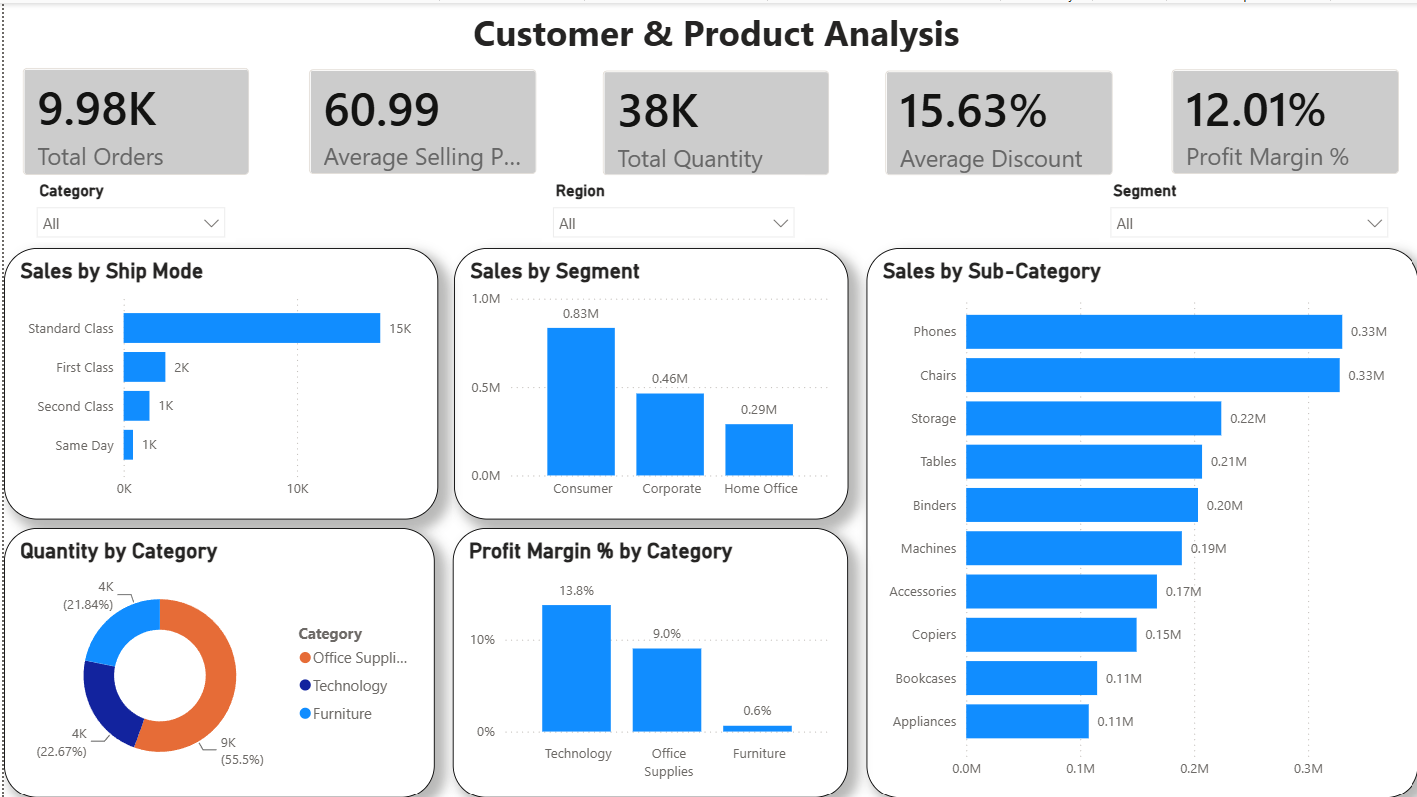

The dashboard page shown, as its layout file describes it:
{"tool":"powerbi","page":{"name":"Page 3","canvas":[1280,720],"ordinal":2},"visuals":[{"type":"textbox","box":[9.6,0,1270.7,56.3],"z":0},{"type":"cardVisual","fields":{"Data":["SampleSuperstore_Feature_Engineered.Total Orders"]},"box":[0,41.8,239.1,131.1],"z":1},{"type":"cardVisual","fields":{"Data":["SampleSuperstore_Feature_Engineered.Average Selling Price"]},"box":[258.8,43.1,240.7,129.4],"z":2},{"type":"cardVisual","fields":{"Data":["SampleSuperstore_Feature_Engineered.Total Quantity"]},"box":[524.6,44.5,239.4,129.4],"z":3},{"type":"cardVisual","fields":{"Data":["SampleSuperstore_Feature_Engineered.Average Discount"]},"box":[780.7,44.5,240.7,129.4],"z":4},{"type":"cardVisual","fields":{"Data":["SampleSuperstore_Feature_Engineered.Profit Margin %"]},"box":[1039.5,43.1,240.7,129.4],"z":5},{"type":"clusteredColumnChart","title":"Sales by Segment","fields":{"Category":["SampleSuperstore_Feature_Engineered.Segment"],"Y":["SampleSuperstore_Feature_Engineered.Total Sales"]},"box":[406.7,221.4,357,245.5],"z":6},{"type":"clusteredBarChart","title":"Sales by Ship Mode","fields":{"Category":["SampleSuperstore_Feature_Engineered.Ship Mode"],"Y":["SampleSuperstore_Feature_Engineered.Total Sales"]},"box":[0,221.4,393.1,245.5],"z":7},{"type":"clusteredBarChart","title":"Sales by Sub-Category","fields":{"Category":["SampleSuperstore_Feature_Engineered.Sub-Category"],"Y":["SampleSuperstore_Feature_Engineered.Total Sales"]},"box":[780.2,221.4,500.1,498.6],"z":9},{"type":"donutChart","title":"Quantity by Category","fields":{"Category":["SampleSuperstore_Feature_Engineered.Category"],"Y":["SampleSuperstore_Feature_Engineered.Total Quantity"]},"box":[0,474.5,389.7,244.9],"z":10},{"type":"slicer","fields":{"Values":["SampleSuperstore_Feature_Engineered.Category"]},"box":[19.2,156.4,190.7,60.4],"z":11},{"type":"slicer","fields":{"Values":["SampleSuperstore_Feature_Engineered.Region"]},"box":[485.8,156.4,238.8,60.4],"z":12},{"type":"slicer","fields":{"Values":["SampleSuperstore_Feature_Engineered.Segment"]},"box":[990.7,156.4,271.7,60.4],"z":13},{"type":"clusteredColumnChart","title":"Profit Margin % by Category","fields":{"Category":["SampleSuperstore_Feature_Engineered.Category"],"Y":["SampleSuperstore_Feature_Engineered.Profit Margin %"]},"box":[406.4,474.5,357.6,244.9],"z":14}]}

Visuals, with their boxes in screenshot pixels (x1, y1, x2, y2), scaled from the page's 1280x720 canvas onto the 1417x797 screenshot:
textbox: left=11, top=0, right=1416, bottom=62
cardVisual - SampleSuperstore_Feature_Engineered.Total Orders: left=0, top=46, right=265, bottom=191
cardVisual - SampleSuperstore_Feature_Engineered.Average Selling Price: left=286, top=48, right=553, bottom=191
cardVisual - SampleSuperstore_Feature_Engineered.Total Quantity: left=581, top=49, right=846, bottom=192
cardVisual - SampleSuperstore_Feature_Engineered.Average Discount: left=864, top=49, right=1131, bottom=192
cardVisual - SampleSuperstore_Feature_Engineered.Profit Margin %: left=1151, top=48, right=1416, bottom=191
"Sales by Segment" clusteredColumnChart: left=450, top=245, right=845, bottom=517
"Sales by Ship Mode" clusteredBarChart: left=0, top=245, right=435, bottom=517
"Sales by Sub-Category" clusteredBarChart: left=864, top=245, right=1416, bottom=796
"Quantity by Category" donutChart: left=0, top=525, right=431, bottom=796
slicer - SampleSuperstore_Feature_Engineered.Category: left=21, top=173, right=232, bottom=240
slicer - SampleSuperstore_Feature_Engineered.Region: left=538, top=173, right=802, bottom=240
slicer - SampleSuperstore_Feature_Engineered.Segment: left=1097, top=173, right=1398, bottom=240
"Profit Margin % by Category" clusteredColumnChart: left=450, top=525, right=846, bottom=796
